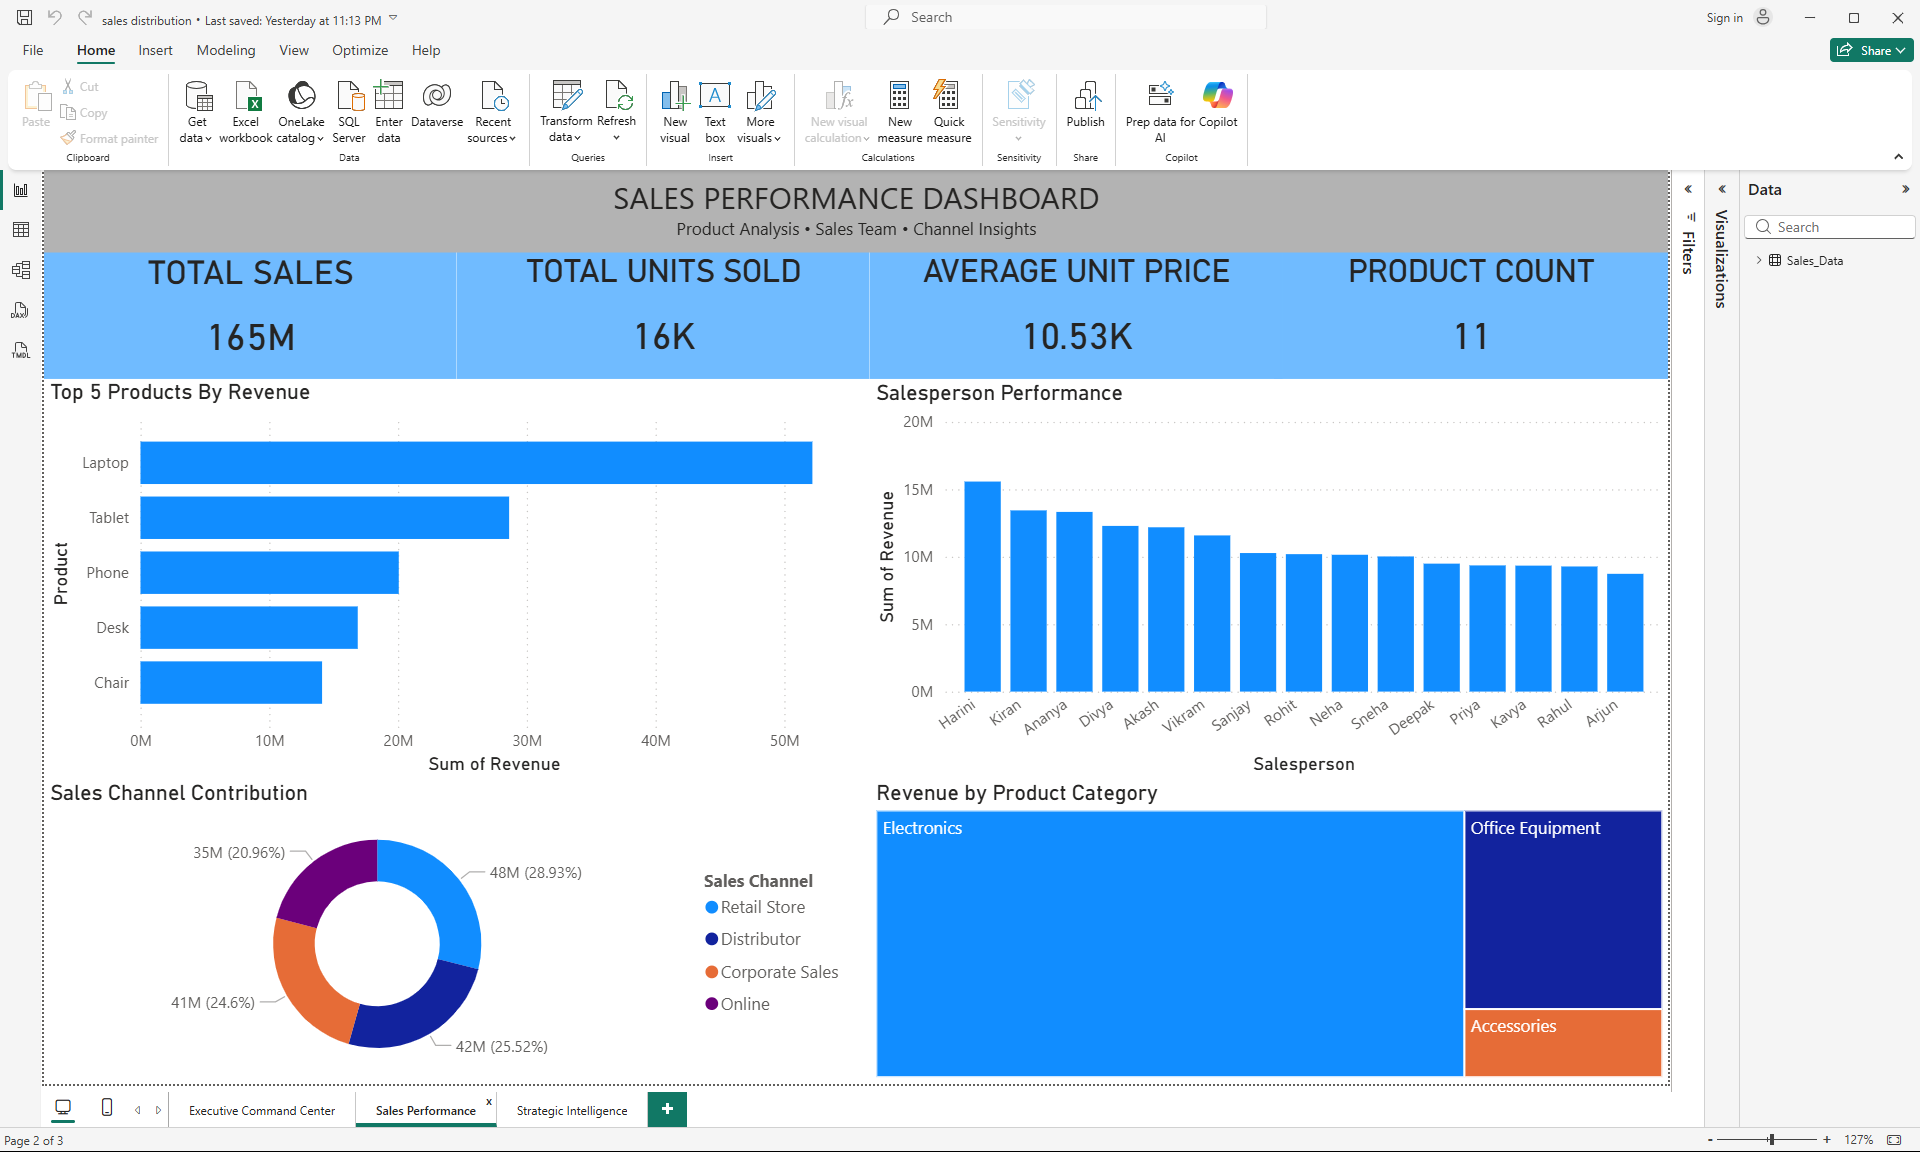

This screenshot's page, from the dashboard's own definition file:
{"tool":"powerbi","page":{"name":"Sales Performance","canvas":[1280,720],"ordinal":1},"visuals":[{"type":"card","title":"TOTAL SALES","fields":{"Values":["Sum(Sales_Data.Revenue)"]},"box":[0,64.5,325.5,100],"z":0},{"type":"card","title":"TOTAL UNITS SOLD","fields":{"Values":["Sum(Sales_Data.Units Sold)"]},"box":[325.5,64.5,325.5,100],"z":1000},{"type":"card","title":"PRODUCT COUNT","fields":{"Values":["Count(Sales_Data.Product)"]},"box":[969.1,64.5,310.9,100],"z":2000},{"type":"card","title":"AVERAGE  UNIT PRICE","fields":{"Values":["Avg(Sales_Data.Unit Price)"]},"box":[650.9,64.5,325.5,100],"z":3000},{"type":"clusteredBarChart","title":"Top 5 Products By  Revenue","fields":{"Category":["Sales_Data.Product"],"Y":["Sum(Sales_Data.Revenue)"]},"box":[0,164.5,650.9,316.4],"z":4000},{"type":"clusteredColumnChart","title":" Salesperson Performance","fields":{"Category":["Sales_Data.Salesperson"],"Y":["Sum(Sales_Data.Revenue)"]},"box":[650.9,165.5,629.1,315.5],"z":5000},{"type":"donutChart","title":" Sales Channel Contribution","fields":{"Category":["Sales_Data.Sales Channel"],"Y":["Sum(Sales_Data.Revenue)"]},"box":[0,480.9,640,239.1],"z":6000},{"type":"treemap","title":"Revenue by Product Category","fields":{"Group":["Sales_Data.Product Category"],"Values":["Sum(Sales_Data.Revenue)"]},"box":[650.9,480.9,629.1,239.1],"z":7000},{"type":"textbox","box":[0,0,1280,64.5],"z":7001}]}

Visuals, with their boxes on the page's 1280x720 design canvas (x1, y1, x2, y2). These are canvas units, not pixel positions in the 1920x1152 screenshot, which may show the page scaled, cropped or inside an application window:
"TOTAL SALES" card: l=0, t=64, r=326, b=164
"TOTAL UNITS SOLD" card: l=326, t=64, r=651, b=164
"PRODUCT COUNT" card: l=969, t=64, r=1280, b=164
"AVERAGE  UNIT PRICE" card: l=651, t=64, r=976, b=164
"Top 5 Products By  Revenue" clusteredBarChart: l=0, t=164, r=651, b=481
" Salesperson Performance" clusteredColumnChart: l=651, t=166, r=1280, b=481
" Sales Channel Contribution" donutChart: l=0, t=481, r=640, b=720
"Revenue by Product Category" treemap: l=651, t=481, r=1280, b=720
textbox: l=0, t=0, r=1280, b=64
